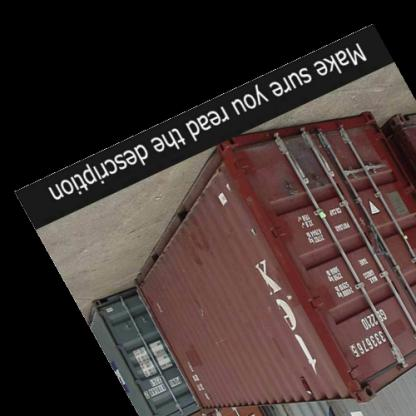Damage: (285, 144, 330, 196), (150, 291, 171, 321), (196, 302, 214, 324), (196, 341, 240, 349), (247, 222, 258, 242)
